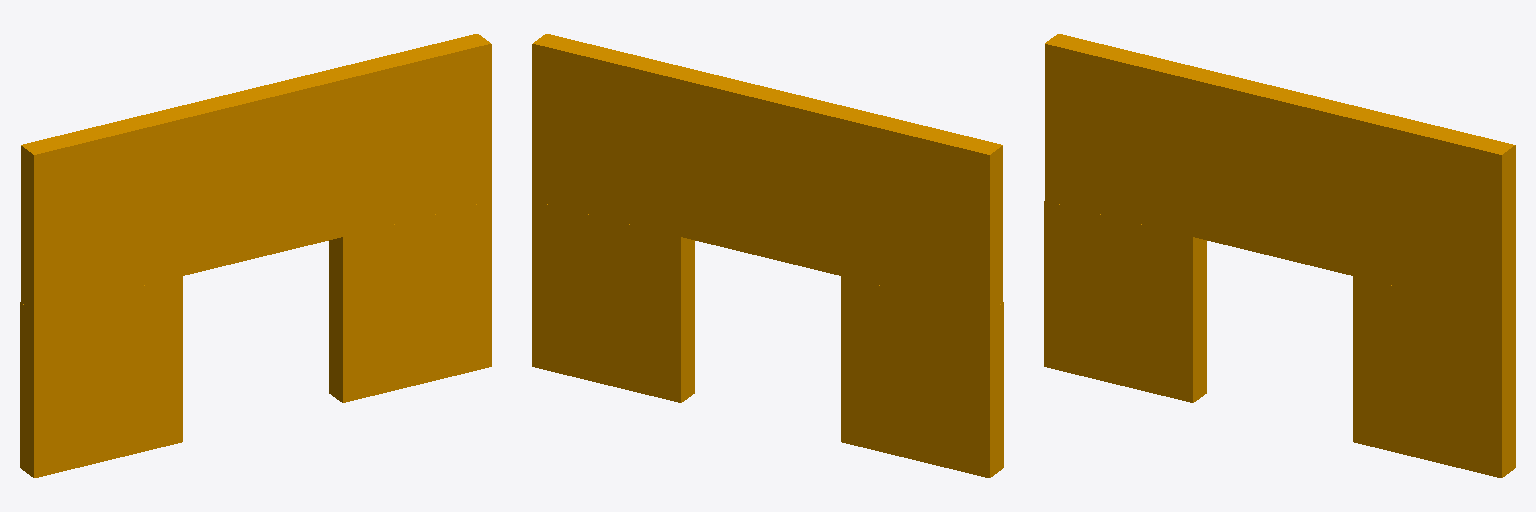
robot.urdf — gate_0_7:
<?xml version="1.0" encoding="UTF-8"?>
<robot name="gate_0_7">
	<link name="base">
		<collision>
			<geometry>
				<mesh filename="../vhacd/gate_0_7_vhacd.obj" scale="1.0 1.0 1.0"/>
			</geometry>
			<origin xyz="0 0 0"/>
			<contact_coefficients mu="0.24" />
		</collision>
		<visual>
			<geometry>
				<mesh filename="../vhacd/gate_0_7_vhacd.obj" scale="1.0 1.0 1.0"/>
			</geometry>
			<origin xyz="0 0 0"/>
		</visual>
		<inertial>
			<mass value="0"/>
			<inertia ixx="0.0" ixy="-0.0" ixz="0.0" iyy="0.0" iyz="-0.0" izz="0.0" />
			<origin xyz="1.0 0.05000000074505806 0.7470588423579433"/>
		</inertial>
	</link>
</robot>

--- Facts derived from the render (not from the file) ---
3 views of the same robot in one strip: view 1: azimuth 30°, elevation 25°; view 2: azimuth 150°, elevation 25°; view 3: azimuth 330°, elevation 25° (orthographic).
Model gate_0_7 with 1 links and 0 joints (none), rooted at base, posed all joints at 0.
Links seen in each view (by area): view 1: base; view 2: base; view 3: base.
Link boxes in pixels (box(x1,y1,x2,y2)): base: box(20, 34, 491, 477); base: box(532, 34, 1003, 477); base: box(1044, 34, 1515, 477).
Bounding box of the posed robot: 2 × 0.1046 × 1.35 m (x, y, z).
1 mesh visuals loaded from 1 distinct referenced files (1 OBJ).